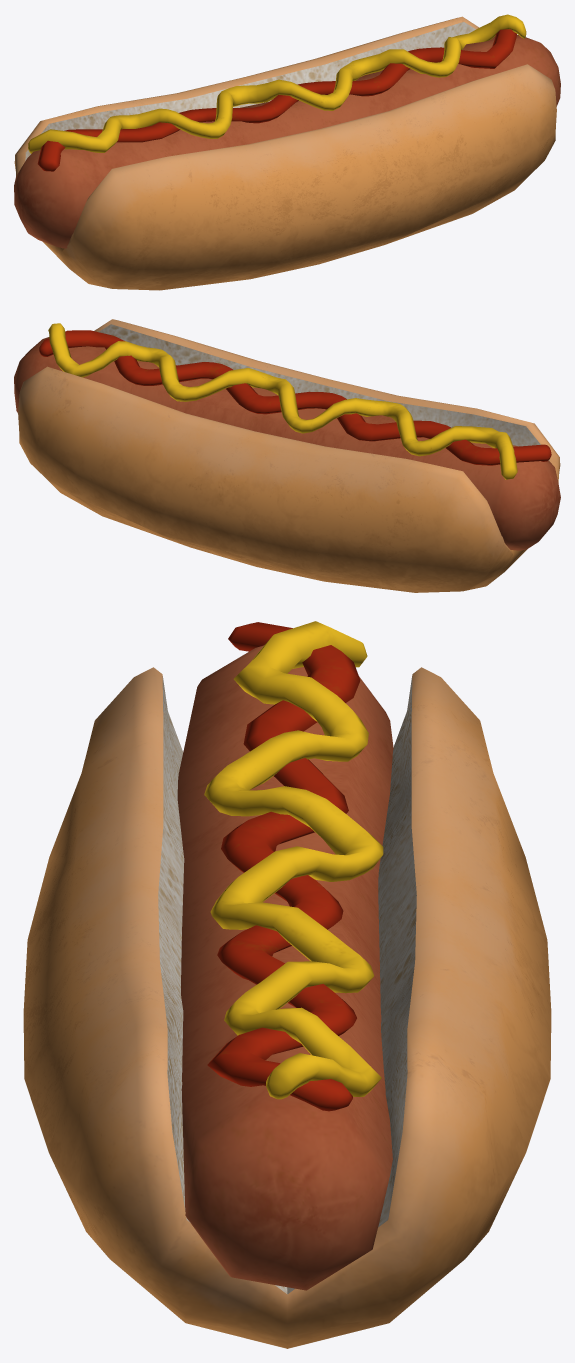
File: hotdog.dae
The picture shows the model from 3 angles, top to bottom: view 1: azimuth 30°, elevation 25°; view 2: azimuth 150°, elevation 25°; view 3: azimuth 270°, elevation 25°; orthographic projection. The views are drawn at different scales.
Parts seen in each view (by area): view 1: Hotdog; view 2: Hotdog; view 3: Hotdog.
Boxes of the visible parts, x1=… form: Hotdog: x1=14, y1=14, x2=560, y2=290; Hotdog: x1=14, y1=319, x2=560, y2=592; Hotdog: x1=23, y1=621, x2=551, y2=1348.
Bounding box in the file's own units: 6.79 × 2.91 × 2.18.
Materials: 1 (1 with a texture image).
